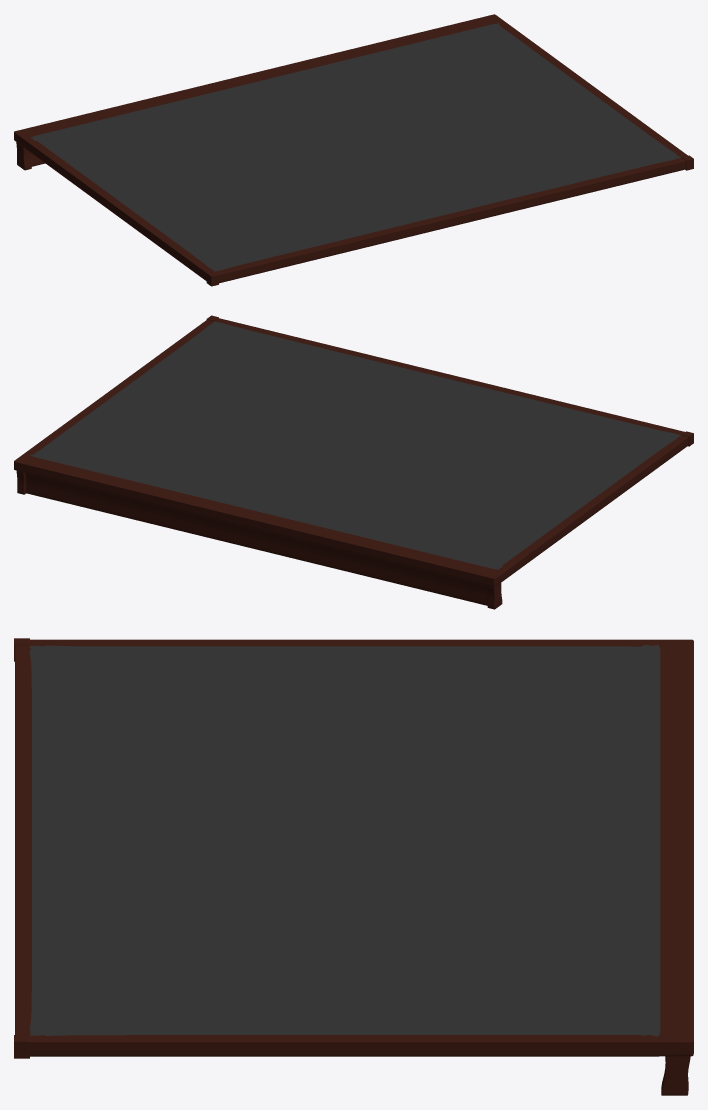
The model's file is BOARD.glb.
3 views of the same model, one above another, from view 1: azimuth 30°, elevation 25°; view 2: azimuth 150°, elevation 25°; view 3: azimuth 270°, elevation 25° (orthographic). The views are drawn at different scales.
Visible parts, largest first — view 1: 16737_dry_erase_board_V1.001, 16737_dry_erase_board_V1.003; view 2: 16737_dry_erase_board_V1.001, 16737_dry_erase_board_V1.003, 16737_dry_erase_board_V1.002; view 3: 16737_dry_erase_board_V1.001, 16737_dry_erase_board_V1.003, 16737_dry_erase_board_V1.002.
Part boxes in pixels (bbox=[...]): 16737_dry_erase_board_V1.001: bbox=[30, 23, 680, 271]; 16737_dry_erase_board_V1.003: bbox=[14, 14, 693, 286]; 16737_dry_erase_board_V1.001: bbox=[30, 321, 680, 569]; 16737_dry_erase_board_V1.003: bbox=[14, 315, 693, 587]; 16737_dry_erase_board_V1.002: bbox=[16, 471, 502, 609]; 16737_dry_erase_board_V1.001: bbox=[29, 644, 660, 1036]; 16737_dry_erase_board_V1.003: bbox=[14, 638, 693, 1058]; 16737_dry_erase_board_V1.002: bbox=[661, 1056, 690, 1095].
Bounding box in the file's own units: 120 × 7.92 × 85.83.
